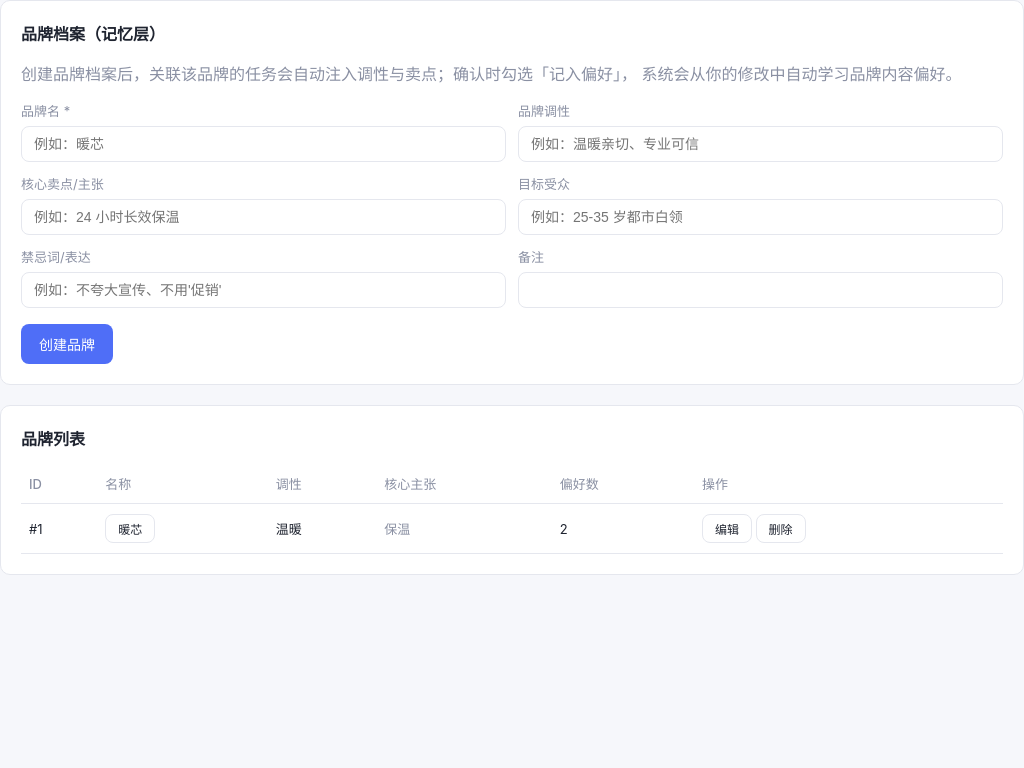
Test: BrandManager › 查看品牌详情展示已学偏好
What coordinates should you click on to do the following:
click the button "暖芯"
I would click on:
 (130, 528)
Its box is [105,514,155,543].
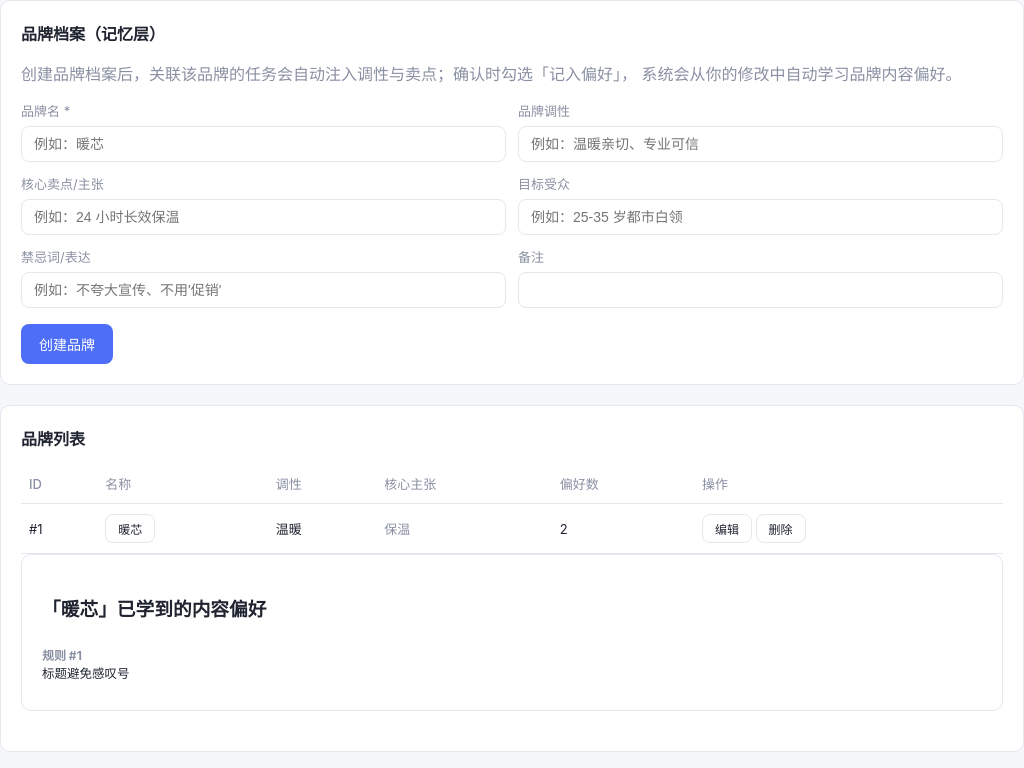
expect the text "标题避免感叹号" is shown: met, box [42,666,130,681]
